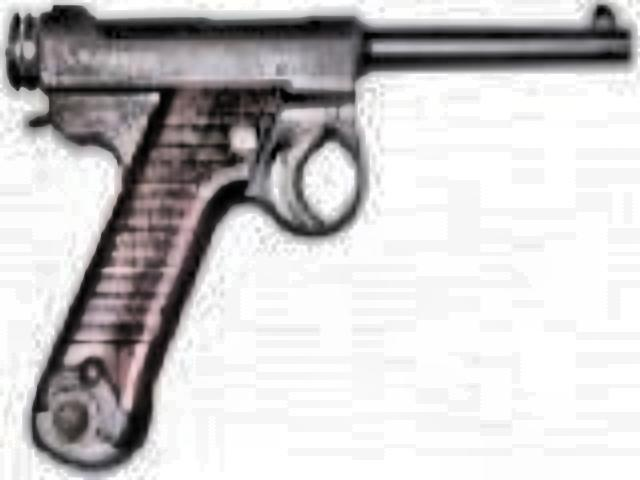pistol: (4, 0, 632, 456)
